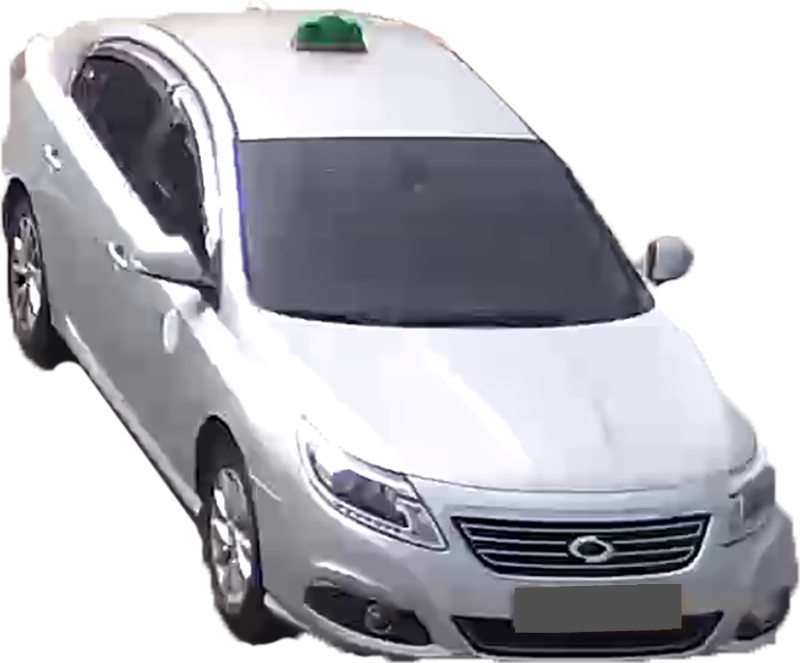P1_: (512, 588, 519, 593)
bbox: (513, 585, 681, 631)
